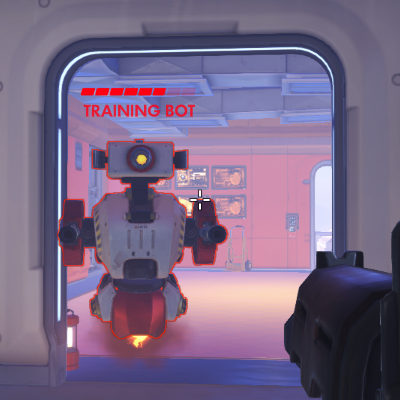hpbar: (80, 87, 196, 96)
